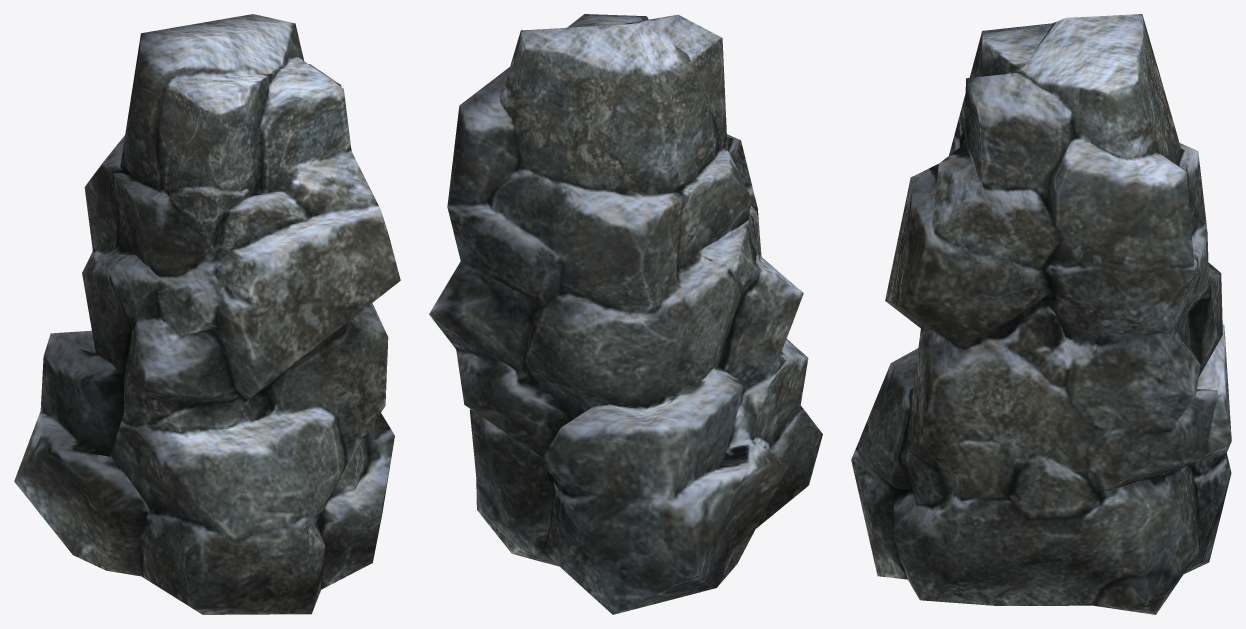
Rendered from SC_bingfengyiji_shitou06.FBX.
3 renders of one model, left to right at view 1: azimuth 30°, elevation 25°; view 2: azimuth 150°, elevation 25°; view 3: azimuth 270°, elevation 25°, orthographic. The views are drawn at different scales.
Parts seen in each view (by area): view 1: SC_bingfengyiji_shitou06; view 2: SC_bingfengyiji_shitou06; view 3: SC_bingfengyiji_shitou06.
Part boxes in pixels (<box>): SC_bingfengyiji_shitou06: <box>14,14,400,614</box>; SC_bingfengyiji_shitou06: <box>429,14,822,614</box>; SC_bingfengyiji_shitou06: <box>851,14,1231,614</box>.
Bounding box in the file's own units: 364 × 659 × 402.
